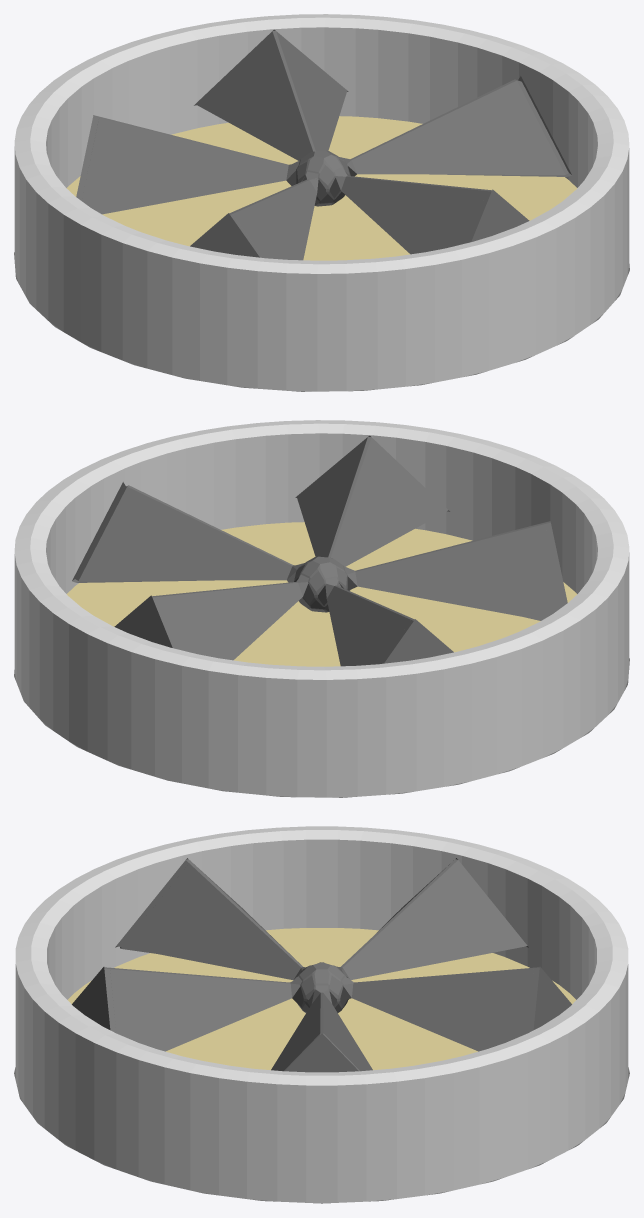
The model's file is FanVent.fbx.
3 views of the same model, one above another, from view 1: azimuth 30°, elevation 25°; view 2: azimuth 150°, elevation 25°; view 3: azimuth 270°, elevation 25° (orthographic).
Parts seen in each view (by area): view 1: Cylinder.002, Cylinder.000, Cylinder.001; view 2: Cylinder.002, Cylinder.000, Cylinder.001; view 3: Cylinder.002, Cylinder.000, Cylinder.001.
Part boxes in pixels (left/top/right/bottom): Cylinder.002: left=14, top=14, right=629, bottom=391; Cylinder.000: left=14, top=29, right=629, bottom=391; Cylinder.001: left=66, top=116, right=577, bottom=260; Cylinder.002: left=14, top=420, right=629, bottom=797; Cylinder.000: left=14, top=435, right=629, bottom=797; Cylinder.001: left=66, top=522, right=577, bottom=666; Cylinder.002: left=15, top=826, right=628, bottom=1202; Cylinder.000: left=14, top=858, right=629, bottom=1203; Cylinder.001: left=68, top=928, right=575, bottom=1070.
Size of the model in its own units: 898 by 221 by 898.
